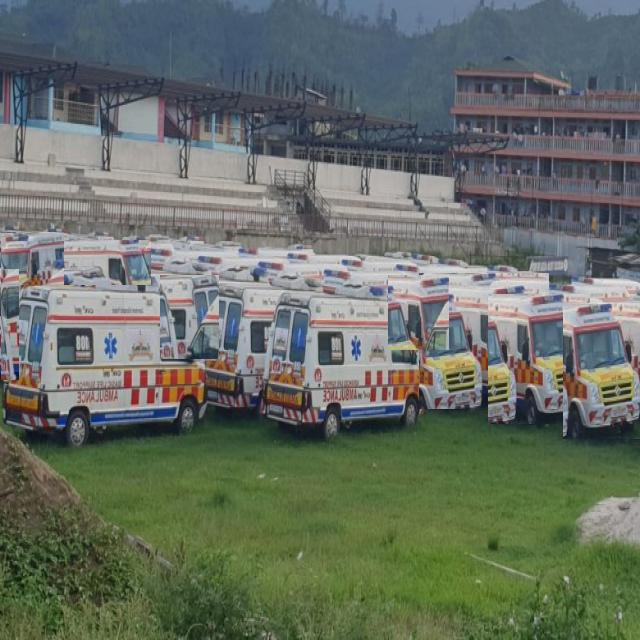emergency: (5, 288, 205, 445), (264, 293, 425, 437), (419, 274, 549, 409), (488, 294, 590, 424), (563, 304, 640, 439), (202, 282, 281, 409), (160, 276, 219, 359), (388, 276, 449, 350), (57, 241, 150, 285), (0, 233, 64, 285), (0, 269, 19, 380), (560, 278, 640, 302), (90, 270, 164, 293), (324, 272, 388, 298), (271, 272, 309, 289)
